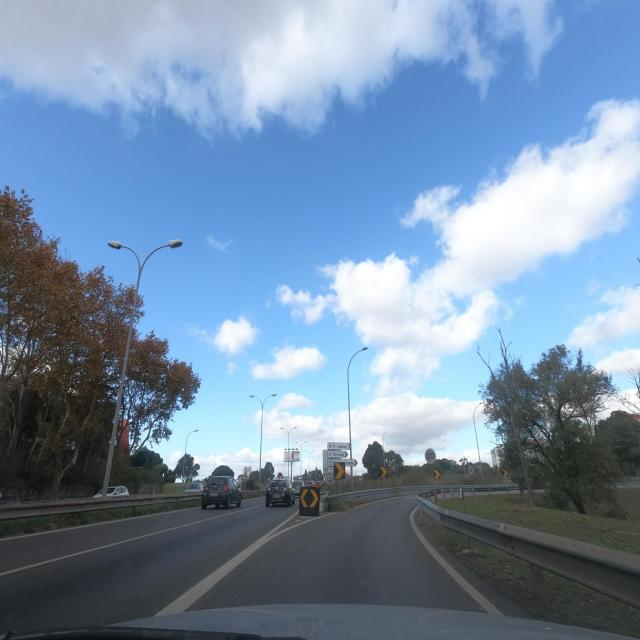car: (200, 475, 242, 509), (265, 478, 295, 507), (92, 484, 129, 498)
